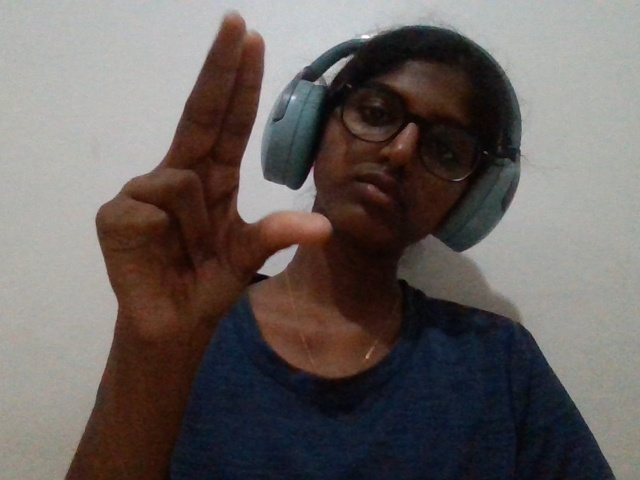No: (68, 10, 380, 361)
